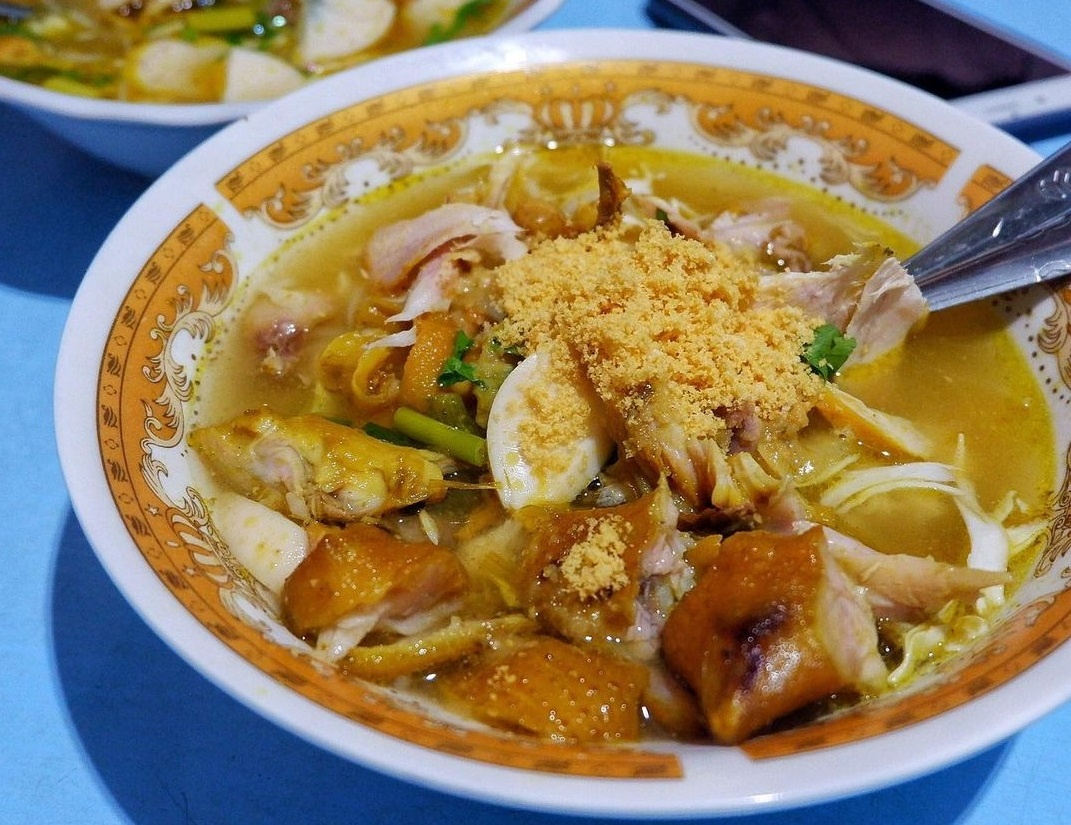soto: (56, 59, 1059, 785)
